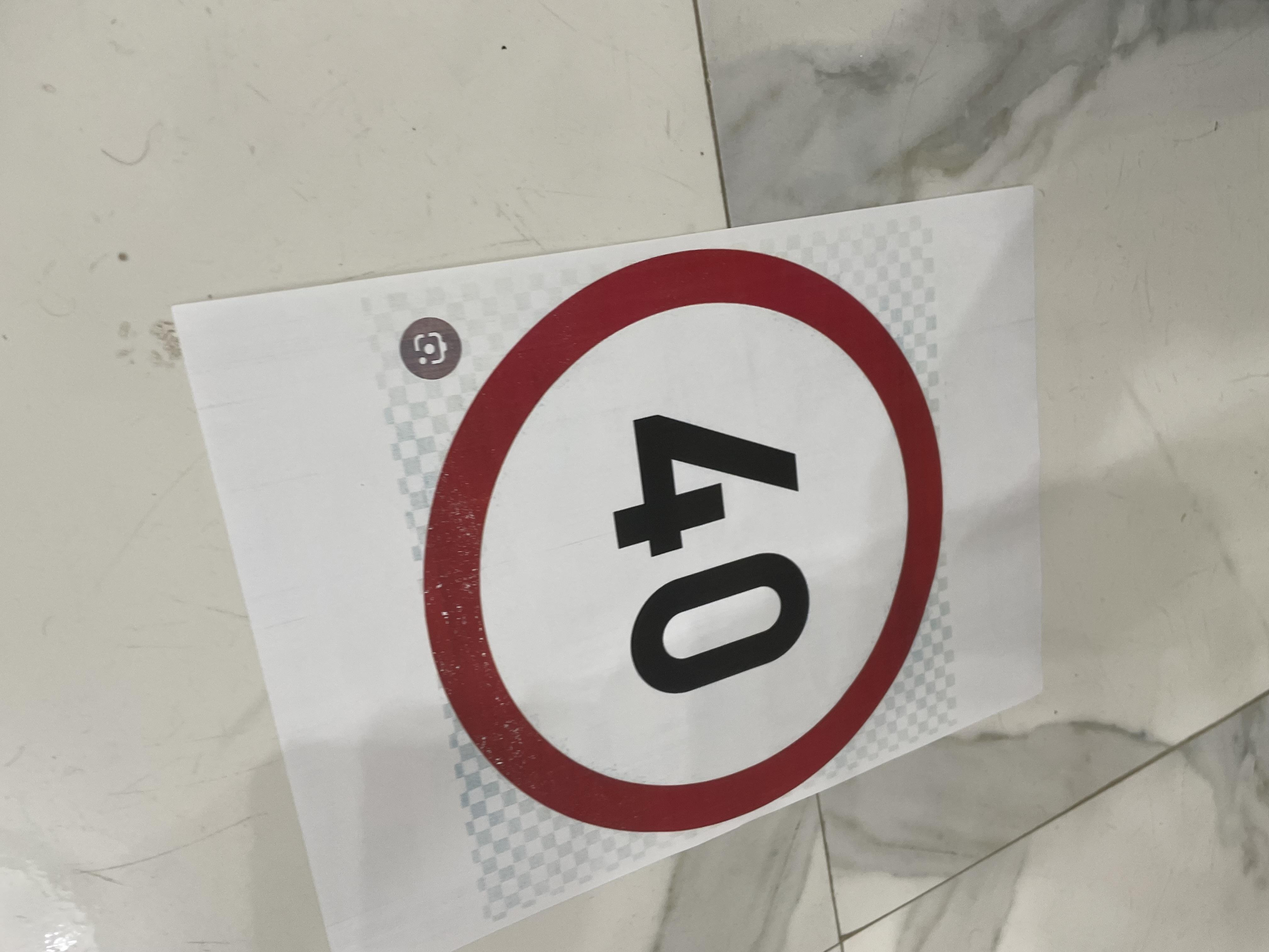40-Speed: (127, 317, 955, 715)
